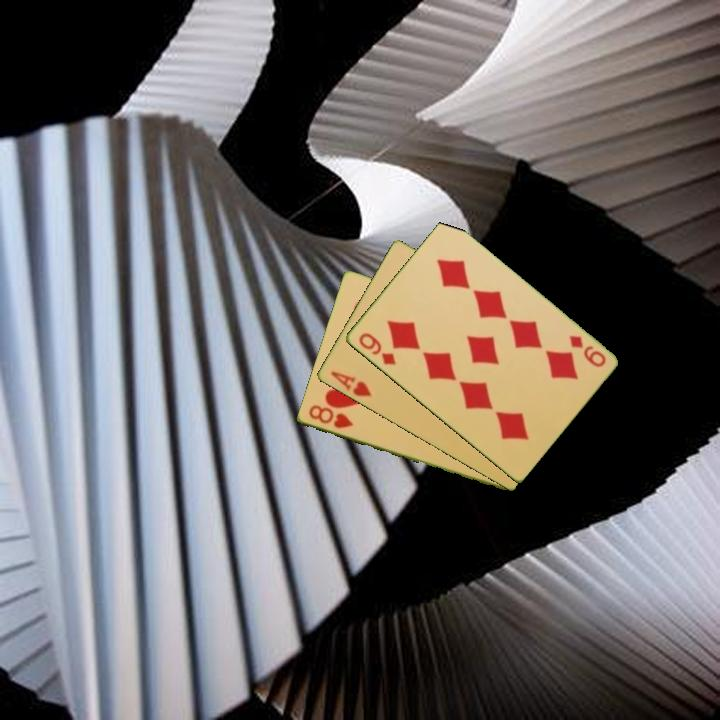8h: (305, 401, 356, 432)
9d: (355, 329, 399, 368), (565, 332, 609, 370)
Ah: (326, 368, 374, 400)
